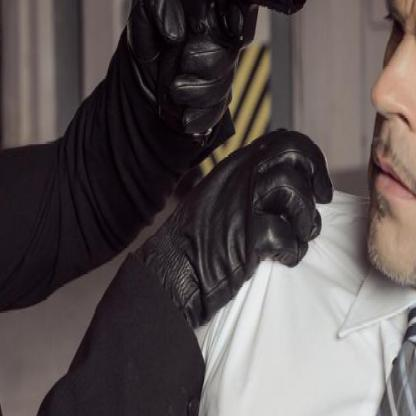gun: (142, 0, 316, 147)
